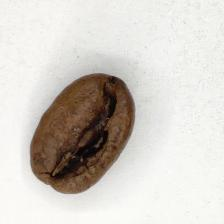NG: (52, 118, 110, 172)
